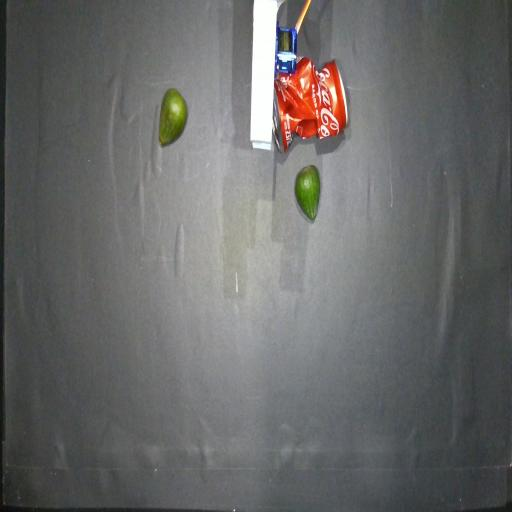higo: (158, 88, 187, 146), (295, 165, 321, 220)
lata_defectuoso: (274, 57, 347, 152)
